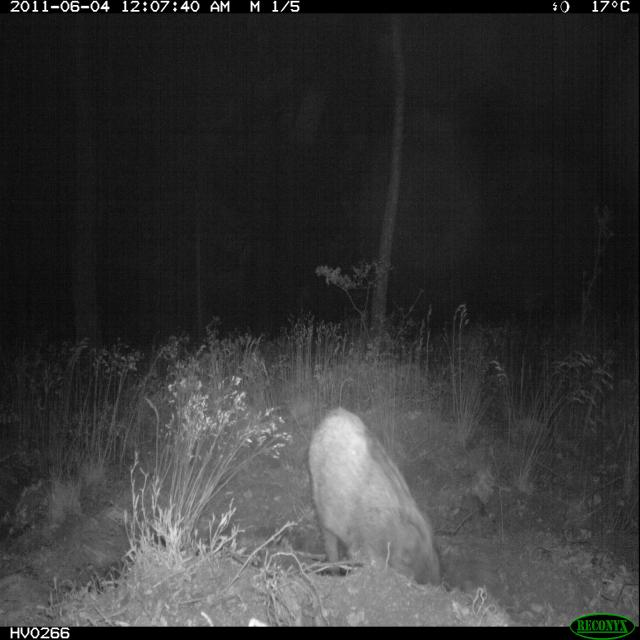boar: (286, 375, 458, 602)
